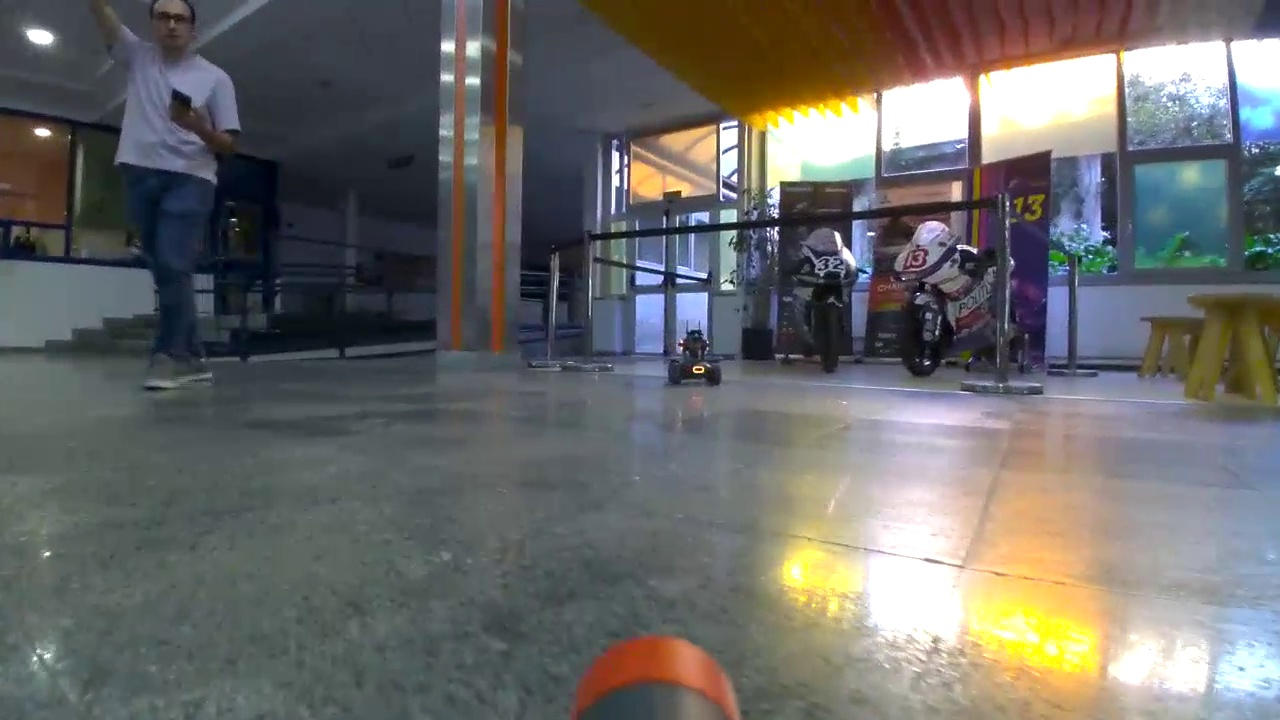robot: (668, 331, 722, 387)
